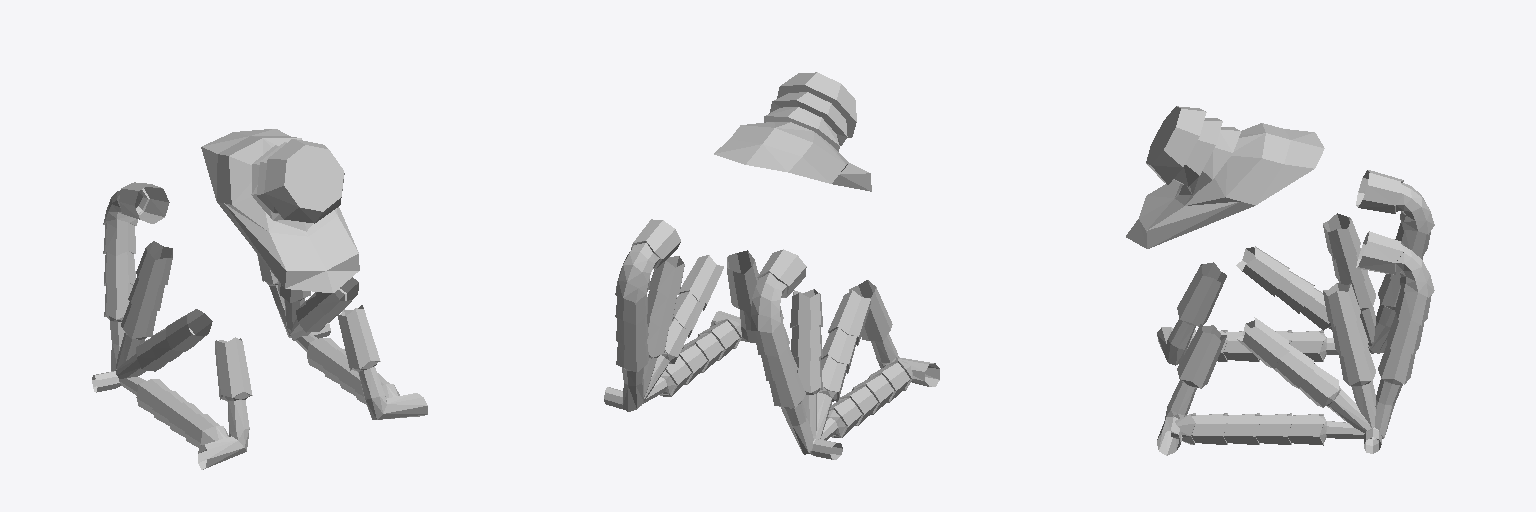
Rendered from armour-lvl4.obj.
3 renders of one model, left to right at view 1: azimuth 30°, elevation 25°; view 2: azimuth 150°, elevation 25°; view 3: azimuth 270°, elevation 25°, orthographic.
Visible parts, largest first — view 1: Circle; view 2: Circle; view 3: Circle.
Boxes of the visible parts, <box> form: Circle: <box>92,129,427,469</box>; Circle: <box>604,72,939,459</box>; Circle: <box>1126,106,1434,455</box>.
Size of the model in its own units: 3.69 by 4.44 by 4.22.